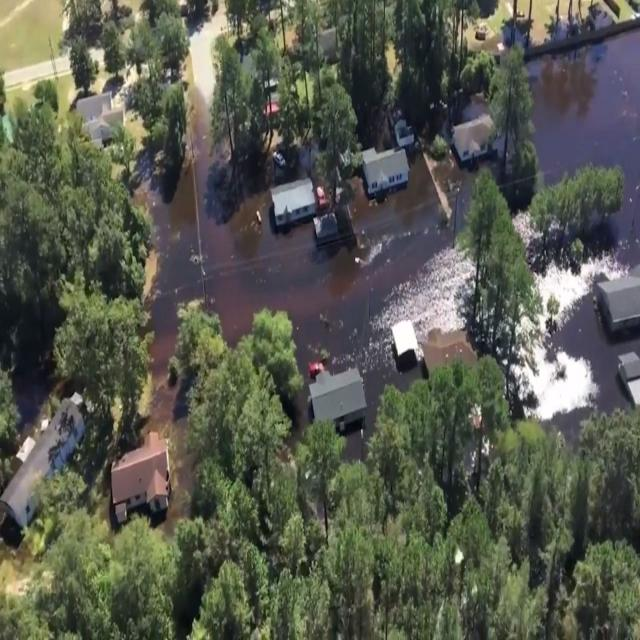flooded_areas: (118, 62, 640, 431)
